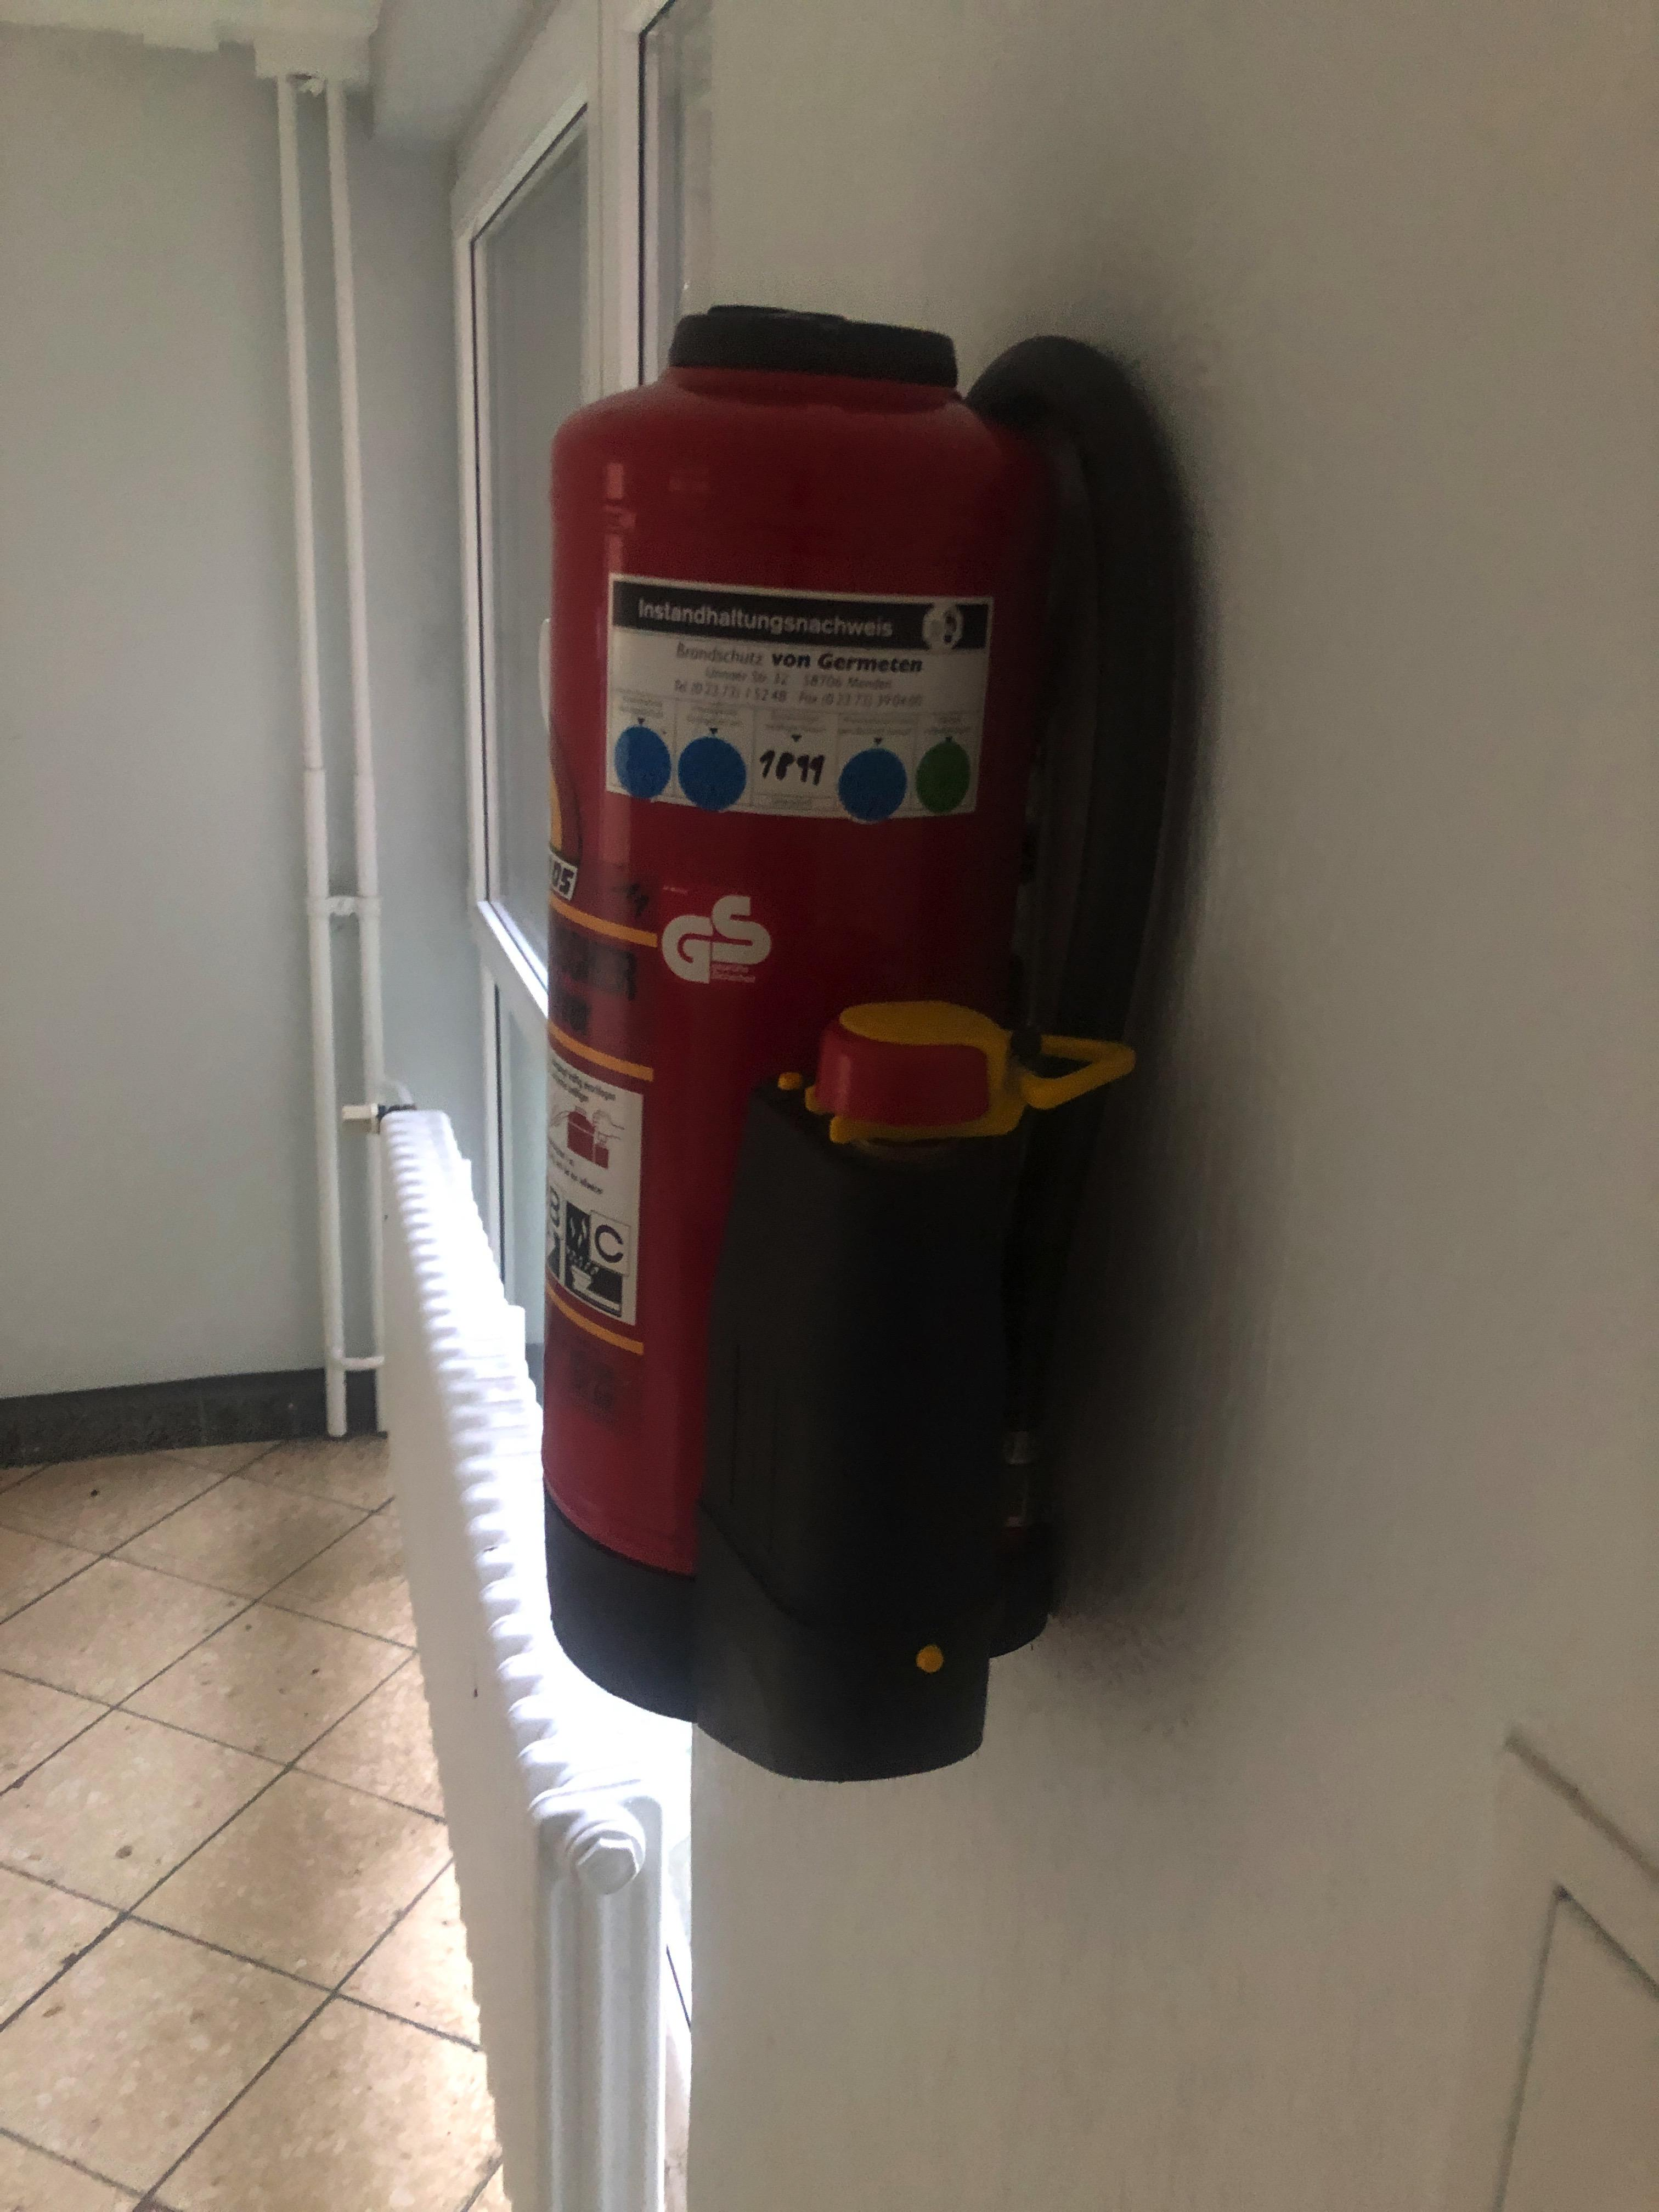extinguisher: (550, 301, 1173, 1781)
